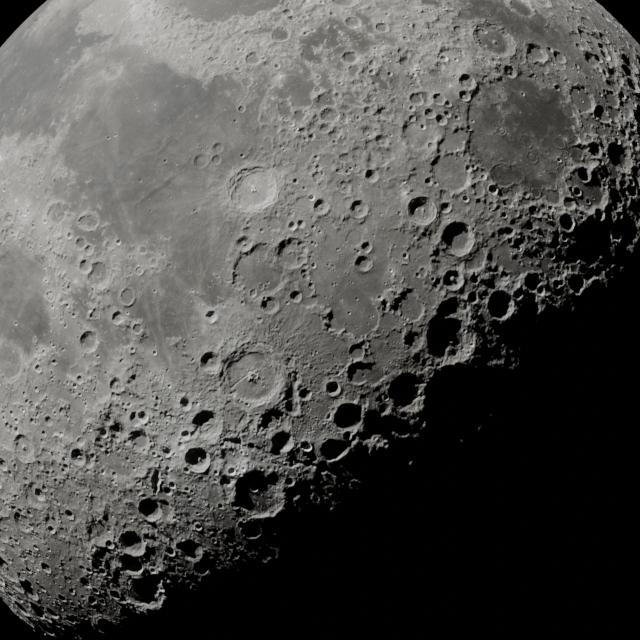crater: (213, 343, 291, 409), (230, 468, 289, 528), (374, 370, 433, 416), (423, 313, 475, 365), (436, 216, 481, 262), (128, 567, 168, 616), (471, 22, 519, 58), (311, 434, 353, 472), (480, 290, 522, 327), (328, 399, 368, 432), (605, 136, 636, 178), (407, 192, 438, 228), (345, 358, 375, 387), (118, 528, 147, 556), (269, 428, 298, 455), (180, 447, 211, 471), (437, 271, 468, 295), (173, 538, 204, 562), (564, 272, 588, 296), (556, 208, 577, 235), (584, 138, 608, 159), (350, 200, 373, 218), (80, 329, 100, 349), (575, 164, 595, 183), (262, 296, 282, 314), (322, 382, 342, 399), (353, 256, 374, 272), (312, 199, 332, 215), (357, 242, 378, 252), (365, 168, 376, 182), (289, 290, 300, 302)
rock: (248, 480, 262, 498), (193, 454, 206, 464), (316, 202, 326, 212), (448, 273, 458, 282), (492, 38, 501, 46), (482, 29, 490, 37), (356, 205, 363, 214)
